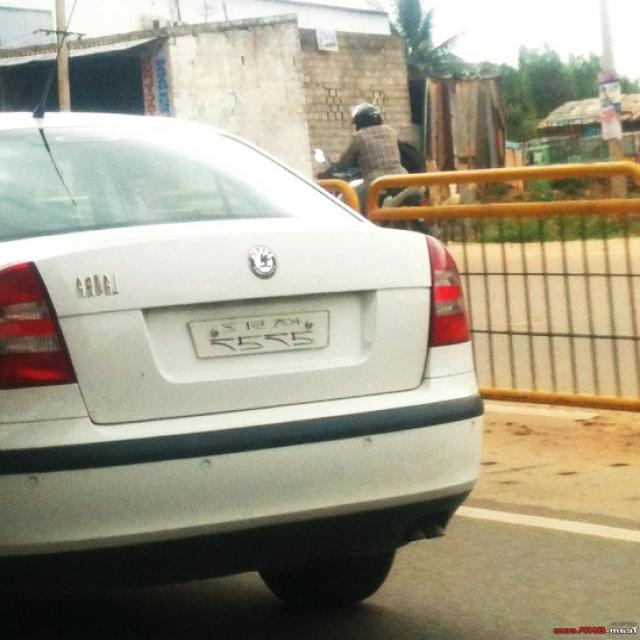number-plate: (176, 305, 345, 373)
